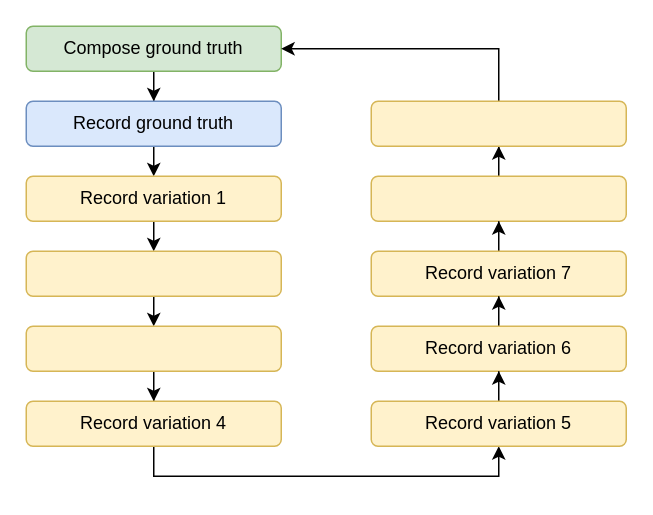
Some shapes in this 653 by 515 pixel diagram are drawn without their labels. Each missing label, with the centre of its shape:
Record variation 2: the point at 153,273
Record variation 3: the point at 153,348
Record variation 8: the point at 498,198
Record variation 9: the point at 498,123
